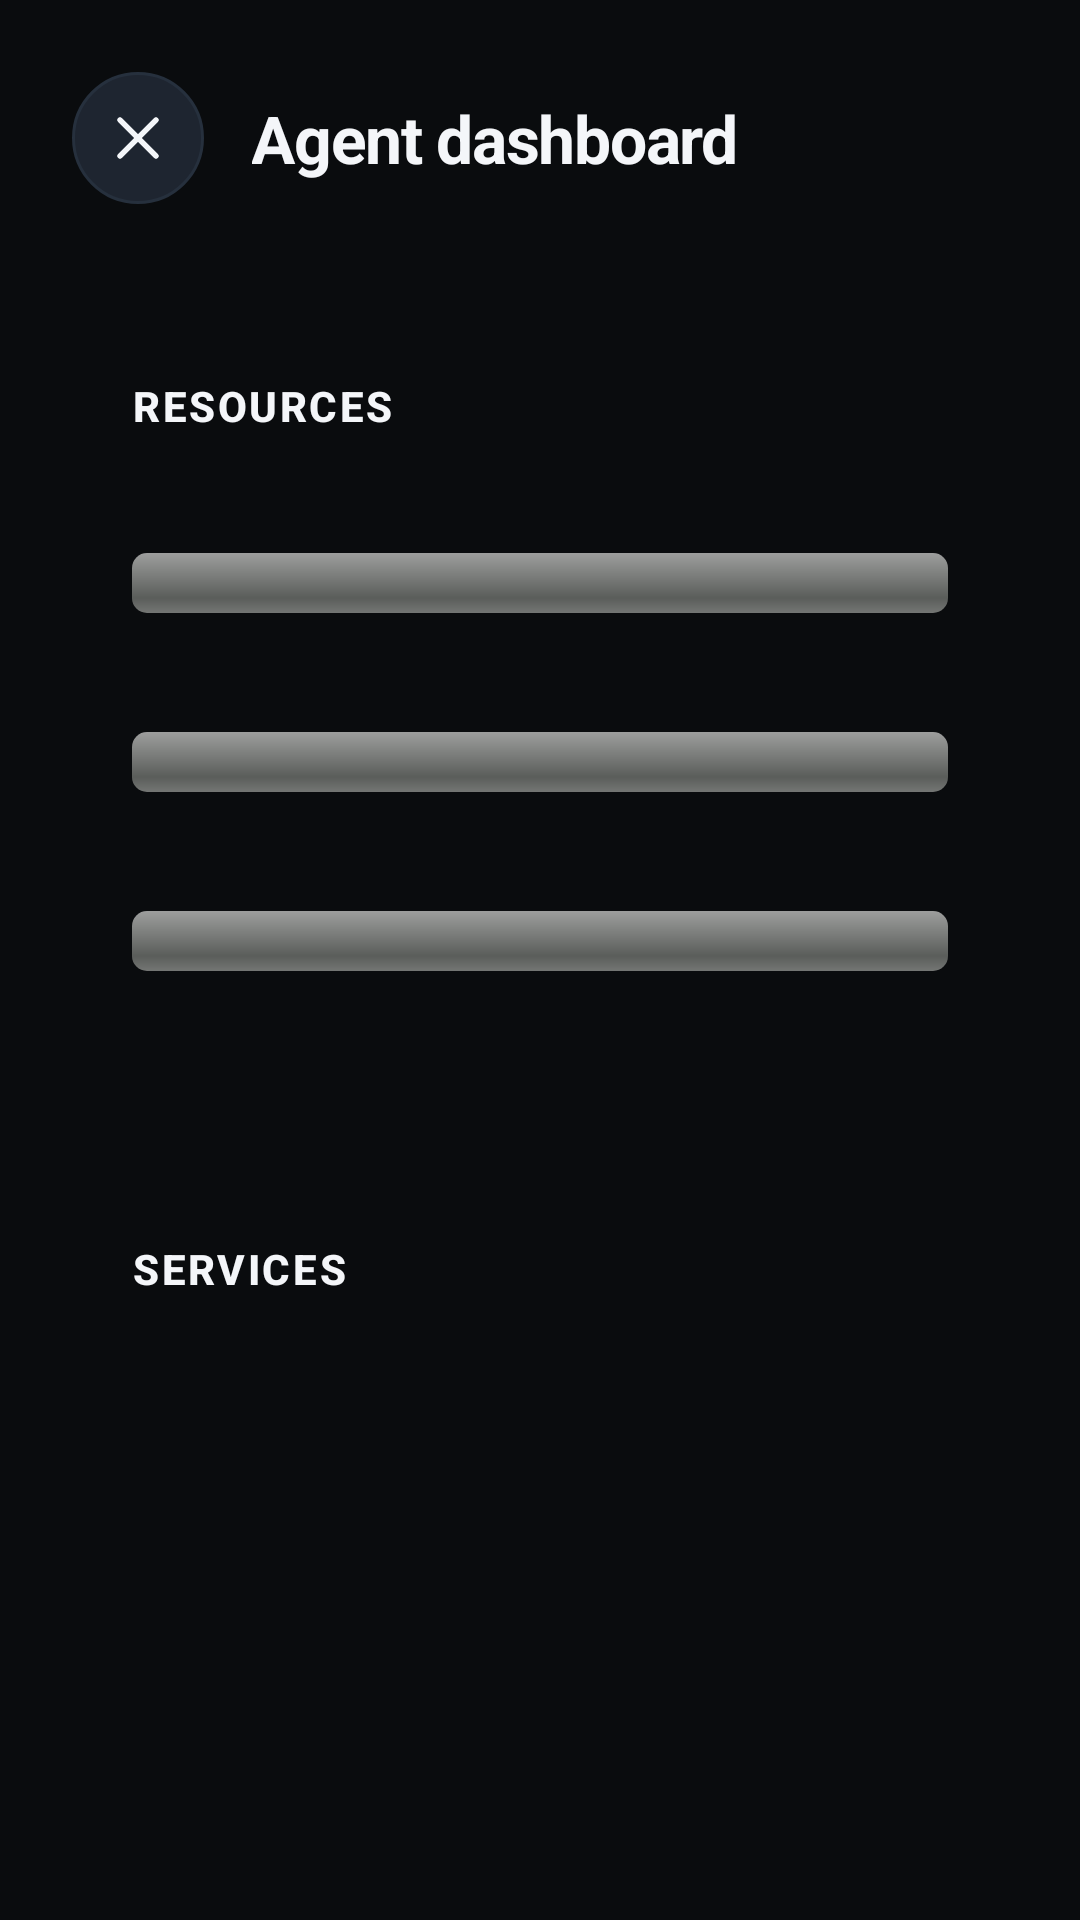

Named icons in this screenshot (1080×1920) and their centers, (x=x, y=y):
Back: (x=138, y=138)
